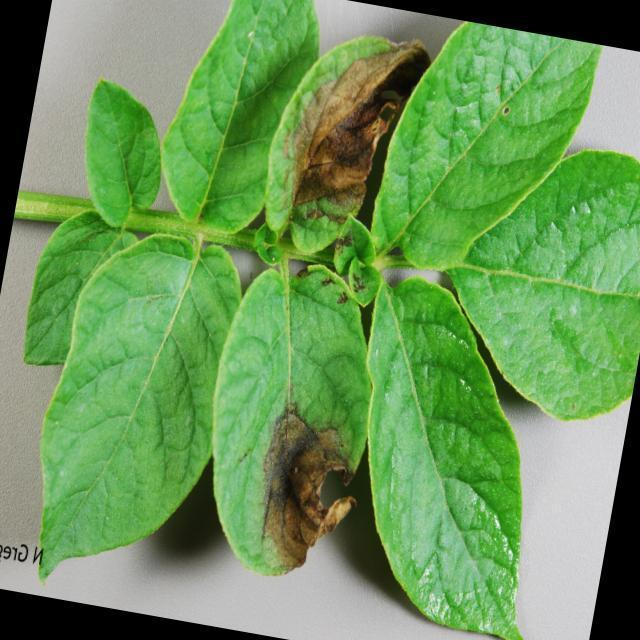Healthy Leaf: (25, 230, 243, 599), (334, 287, 562, 638), (448, 147, 640, 408), (149, 0, 308, 231), (67, 77, 166, 232)
